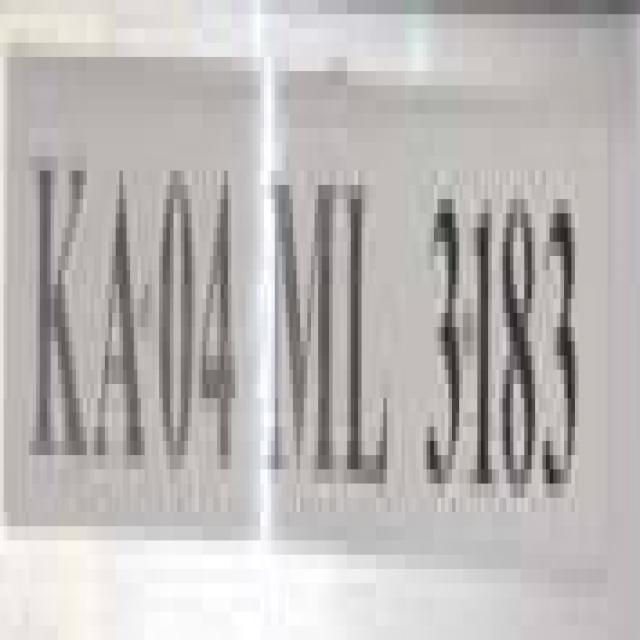license_plate: (0, 14, 607, 568)
